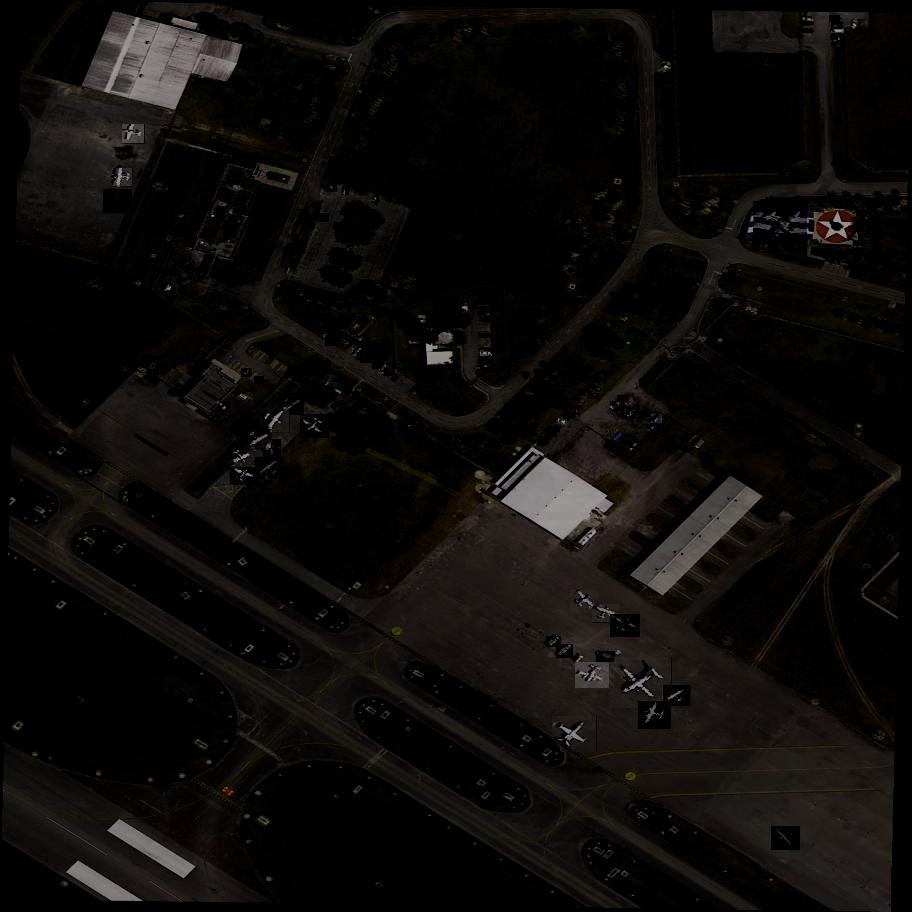large-vehicle: (557, 644, 574, 660), (596, 651, 615, 663), (546, 635, 561, 648)
plane: (610, 651, 673, 714), (753, 197, 807, 250), (553, 712, 597, 757), (639, 698, 672, 734), (260, 405, 290, 438), (575, 661, 610, 689), (570, 588, 599, 617), (772, 824, 800, 853), (300, 412, 330, 439), (243, 426, 273, 453), (104, 187, 132, 215), (610, 613, 640, 639), (256, 456, 284, 483), (664, 683, 691, 708), (230, 463, 258, 487), (278, 392, 304, 417), (229, 446, 255, 470), (592, 603, 619, 624), (122, 124, 145, 146), (264, 440, 283, 459), (113, 168, 132, 187)
small-vehicle: (326, 334, 339, 347), (590, 383, 604, 395), (572, 397, 587, 408), (217, 401, 230, 413), (617, 394, 630, 406), (587, 388, 599, 400), (592, 508, 605, 519), (631, 411, 642, 424), (373, 360, 385, 371), (630, 441, 641, 453), (611, 402, 623, 413), (564, 409, 575, 421), (648, 425, 661, 435), (537, 436, 550, 446), (317, 213, 329, 223), (356, 351, 368, 361), (385, 366, 395, 378), (625, 410, 637, 420), (624, 397, 634, 409), (242, 368, 253, 378), (353, 347, 363, 358), (361, 353, 372, 363), (642, 409, 653, 419), (651, 414, 662, 424), (546, 429, 557, 439), (571, 403, 583, 412), (480, 363, 493, 371), (264, 473, 273, 484), (380, 363, 389, 374), (622, 407, 631, 418), (618, 404, 627, 415), (480, 346, 492, 354), (832, 22, 844, 30), (831, 27, 844, 34), (255, 376, 264, 386), (549, 426, 560, 434), (556, 419, 567, 427), (480, 312, 492, 319), (803, 16, 815, 23), (829, 16, 841, 23), (478, 356, 490, 363), (851, 20, 859, 30), (569, 408, 579, 416), (832, 37, 843, 44), (478, 334, 490, 339), (802, 29, 813, 34), (330, 183, 336, 191), (831, 32, 842, 36), (343, 187, 348, 195), (803, 21, 813, 25), (373, 196, 379, 202), (479, 317, 488, 321), (481, 352, 490, 356), (860, 20, 865, 27)
